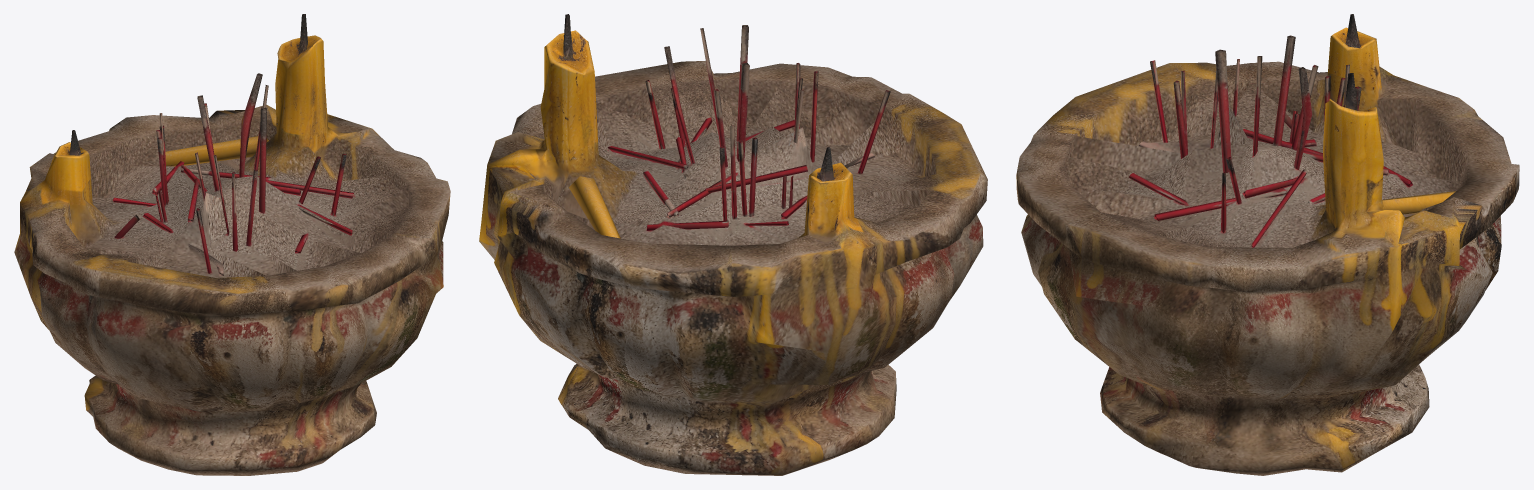
The model's file is Meshy_AI_Ashen_Offerings_20261028_texture.fbx.
3 renders of one model, left to right at view 1: azimuth 30°, elevation 25°; view 2: azimuth 150°, elevation 25°; view 3: azimuth 270°, elevation 25°, orthographic. The views are drawn at different scales.
Parts seen in each view (by area): view 1: Mesh_0; view 2: Mesh_0; view 3: Mesh_0.
Part boxes in pixels (left/top/right/bottom): Mesh_0: left=14, top=14, right=450, bottom=475; Mesh_0: left=479, top=14, right=987, bottom=475; Mesh_0: left=1016, top=14, right=1519, bottom=475.
Bounding box in the file's own units: 95.02 × 83.01 × 95.17.
1 material, 1 textured.
